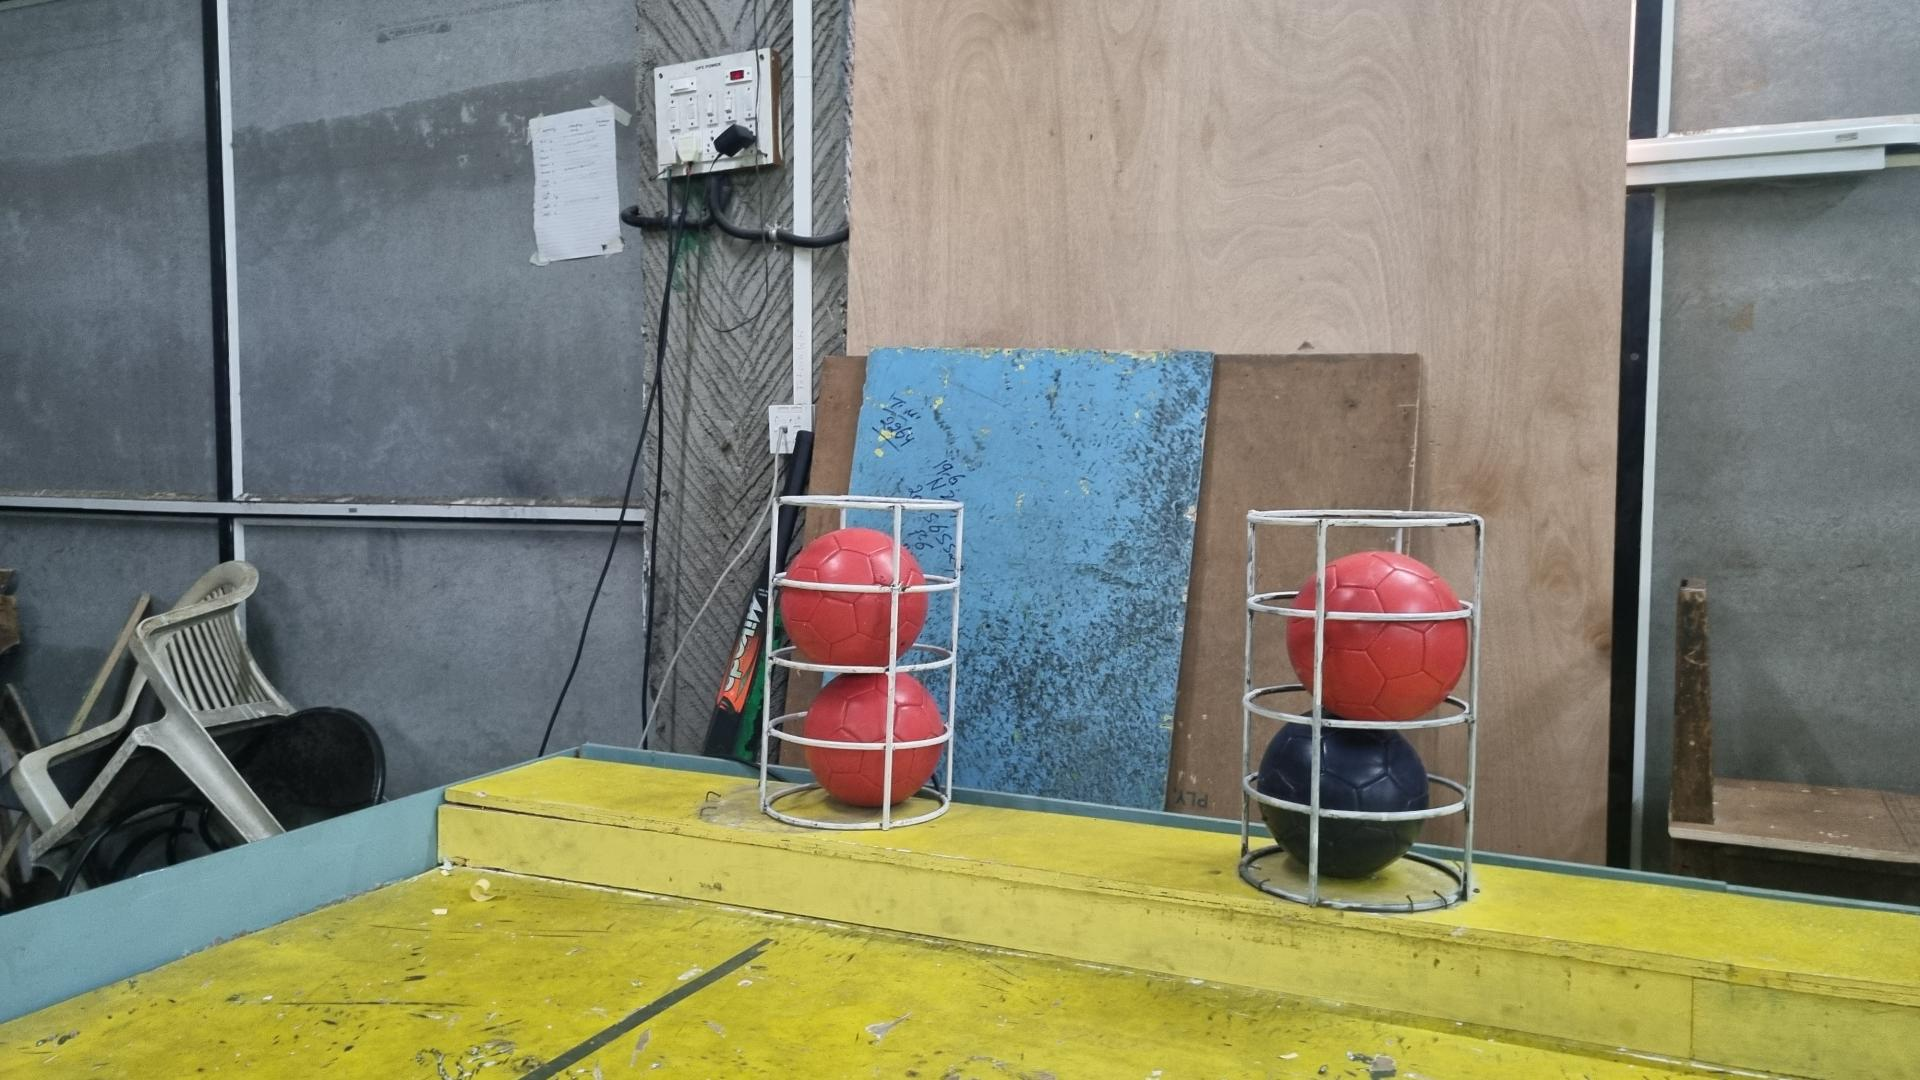dhoka: (1253, 712, 1428, 881)
laale: (1286, 551, 1470, 723), (781, 529, 930, 667), (803, 674, 945, 810)
